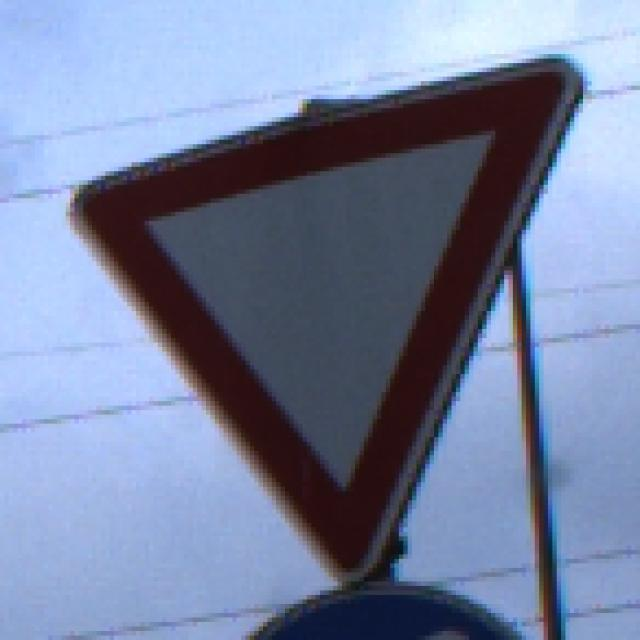give way: (40, 42, 610, 617)
